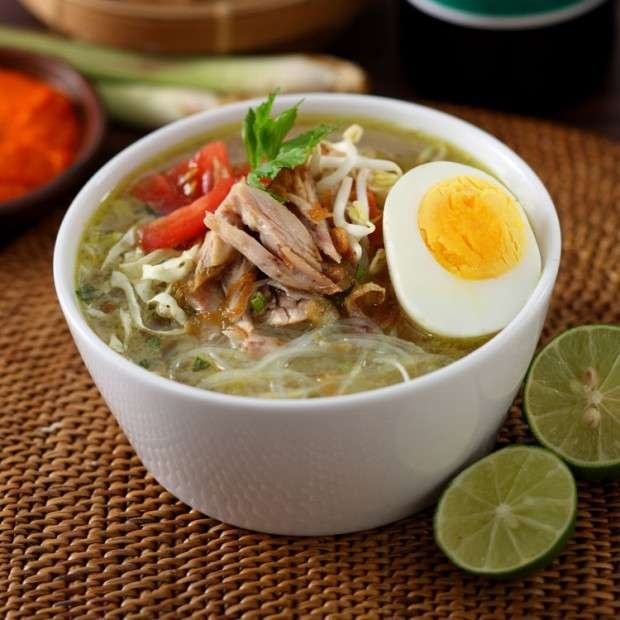soto: (90, 128, 553, 394)
